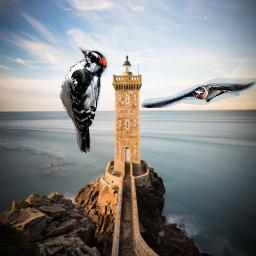Swallow: (141, 78, 256, 108)
Woodpecker: (59, 47, 109, 153)
